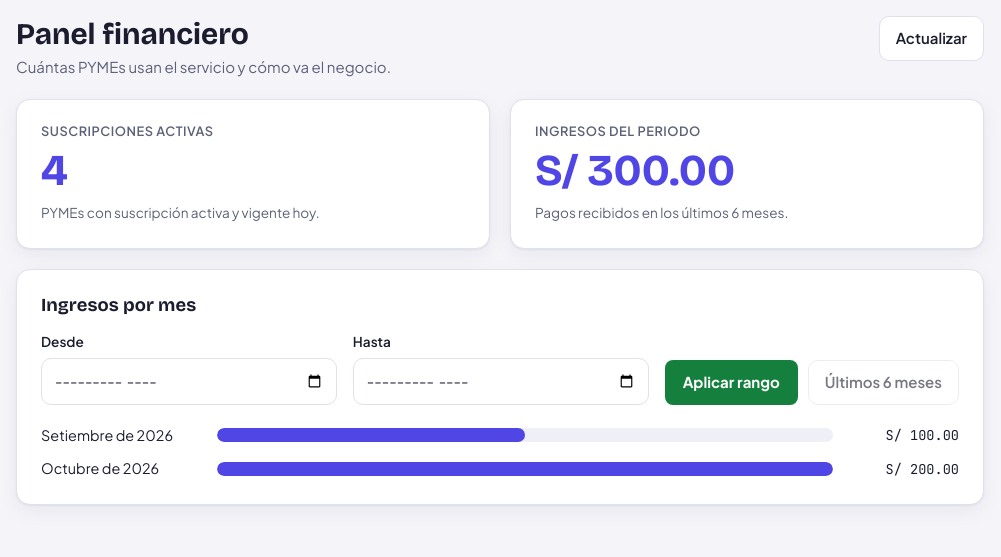
Scenario: Filtro por rango de meses en el panel financiero (HU-07) › el botón Últimos 6 meses quita el rango y vuelve a pedir el periodo normal
Expected: the text "octubre de 2026" is shown, x1=41 y1=459 x2=159 y2=477
Type "2025-01" into the field labelled "Desde" at (189, 381), box x1=41 y1=358 x2=337 y2=405
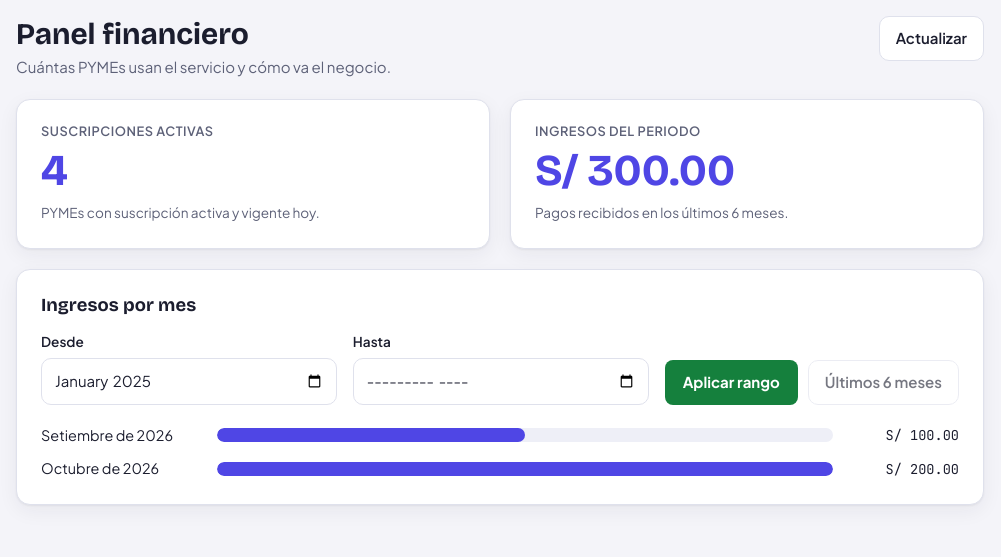
Type "2025-03" into the field labelled "Hasta" at (501, 381), box x1=353 y1=358 x2=649 y2=405
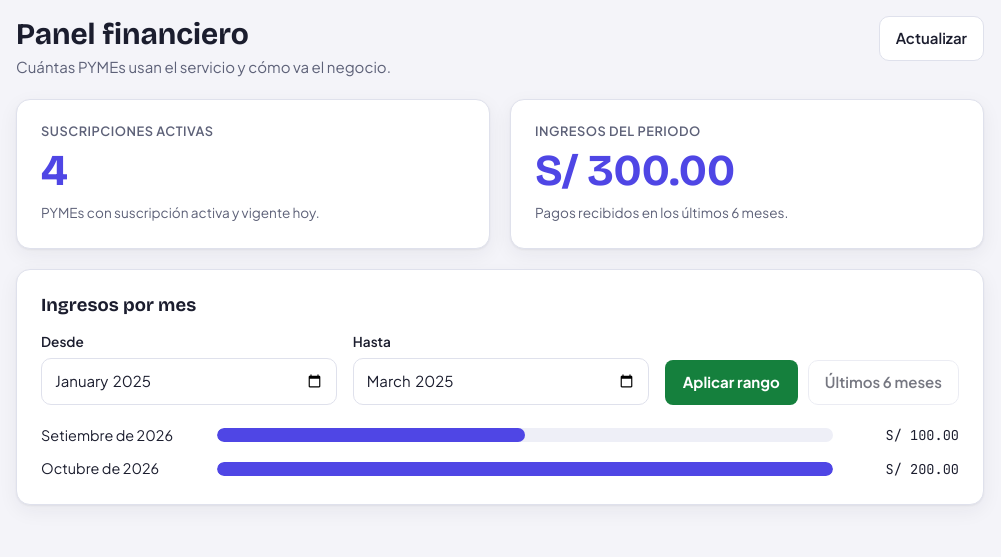
Click the button "Aplicar rango" at (731, 382), box x1=665 y1=360 x2=798 y2=405
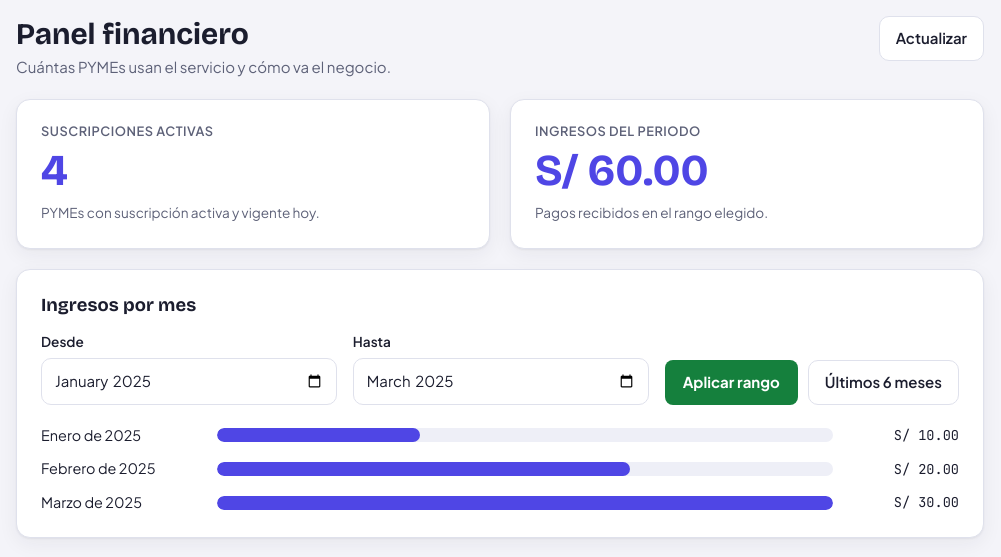
Result: the text "enero de 2025" is shown at x1=41 y1=426 x2=141 y2=444
Click the button "Últimos 6 meses" at (883, 382), box x1=808 y1=360 x2=959 y2=405
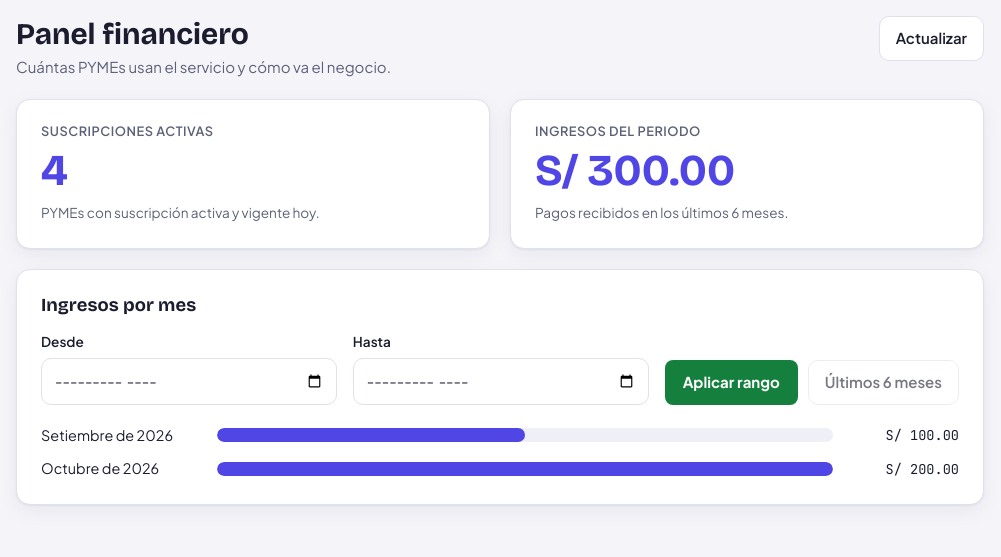
Result: the text "octubre de 2026" is shown at x1=41 y1=459 x2=159 y2=477
Result: the field labelled "Desde" is empty at x1=41 y1=358 x2=337 y2=405
Result: the text "Pagos recibidos en los últimos 6 meses." is shown at x1=535 y1=204 x2=788 y2=221
